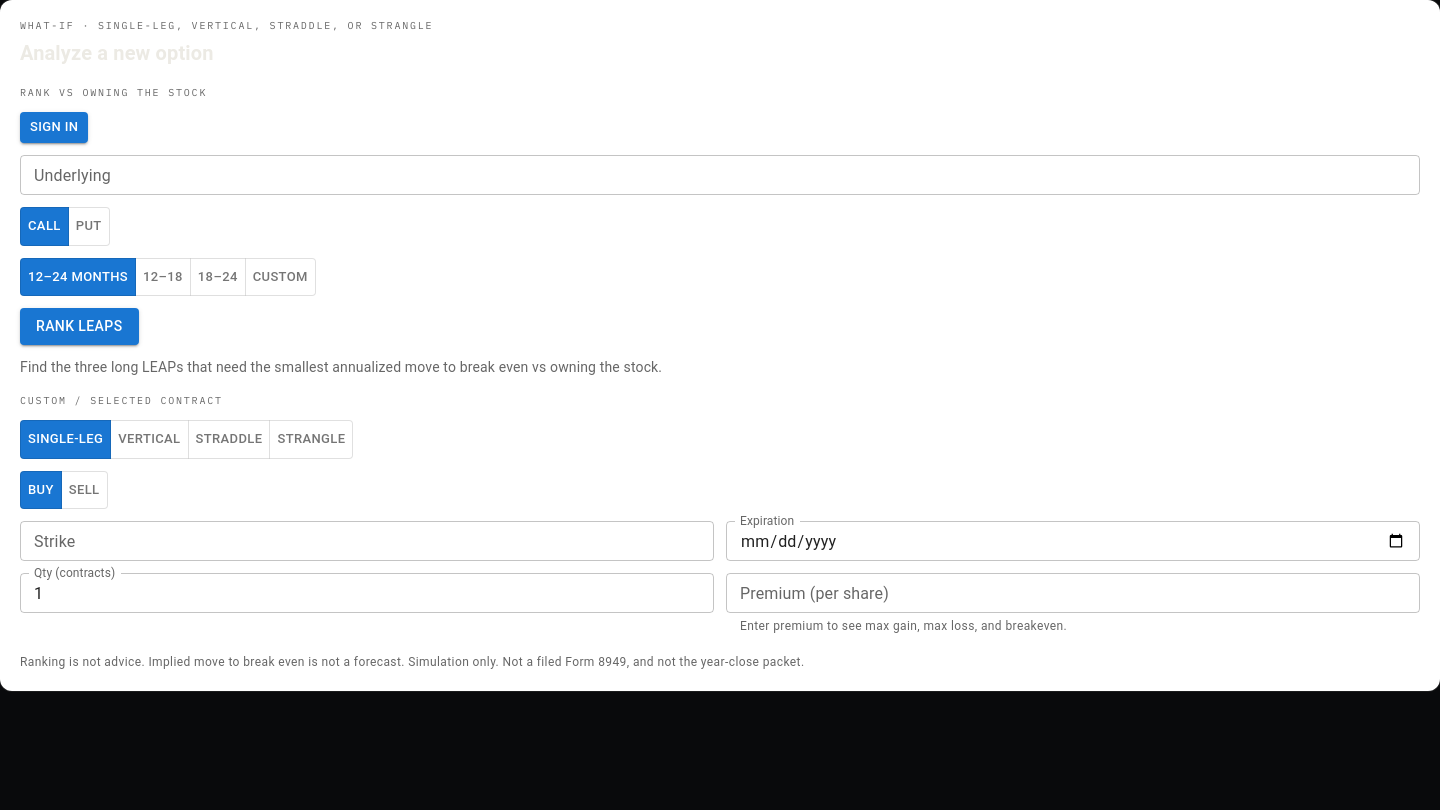
Test case: EntryAnalysisPanel › shows the 429 lookup message without fake ranks
Type "SPY" into the field with test id "entry-symbol" at (720, 175), box [20,155,1420,195]
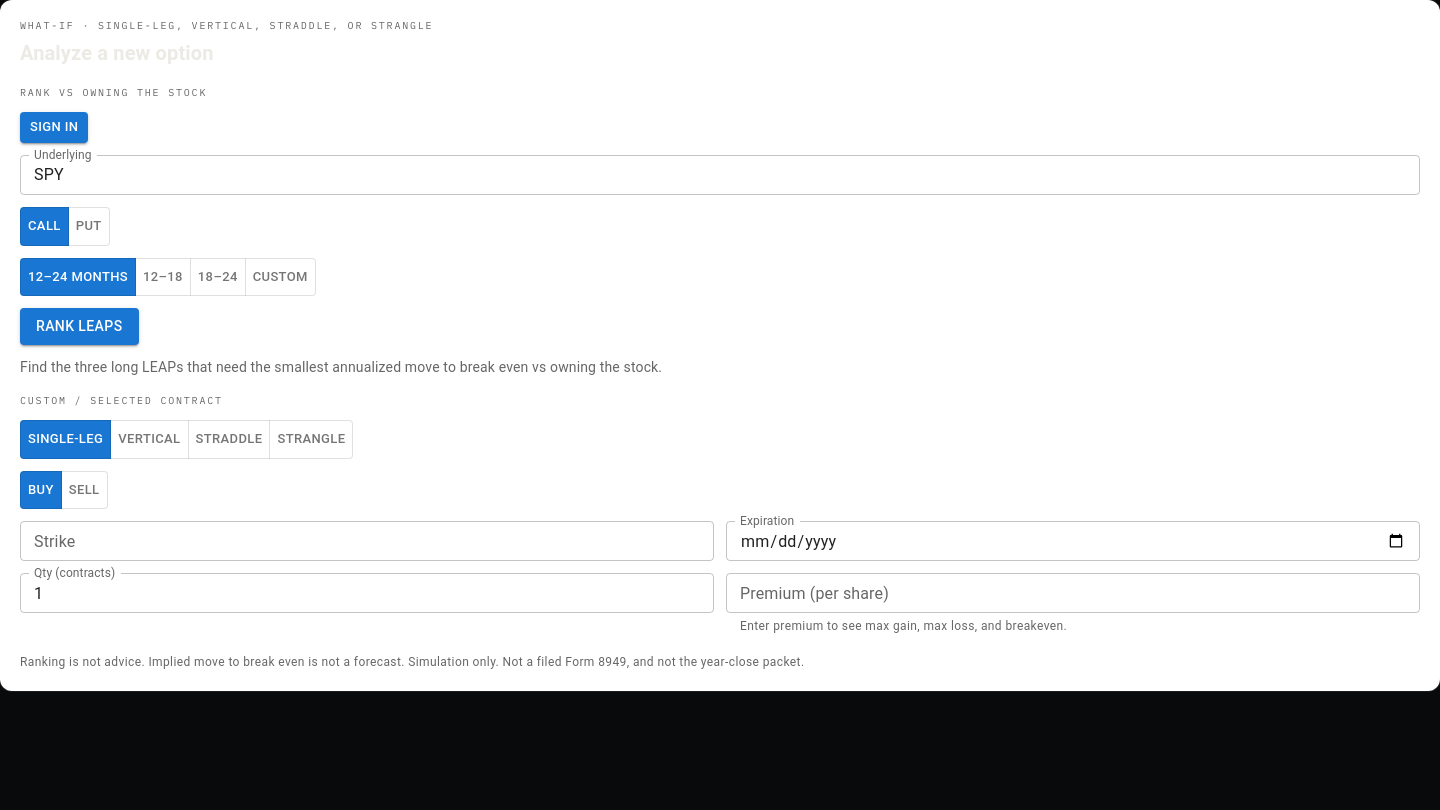
Click the button with test id "entry-rank-leaps" at (79, 327), box [20,308,138,345]
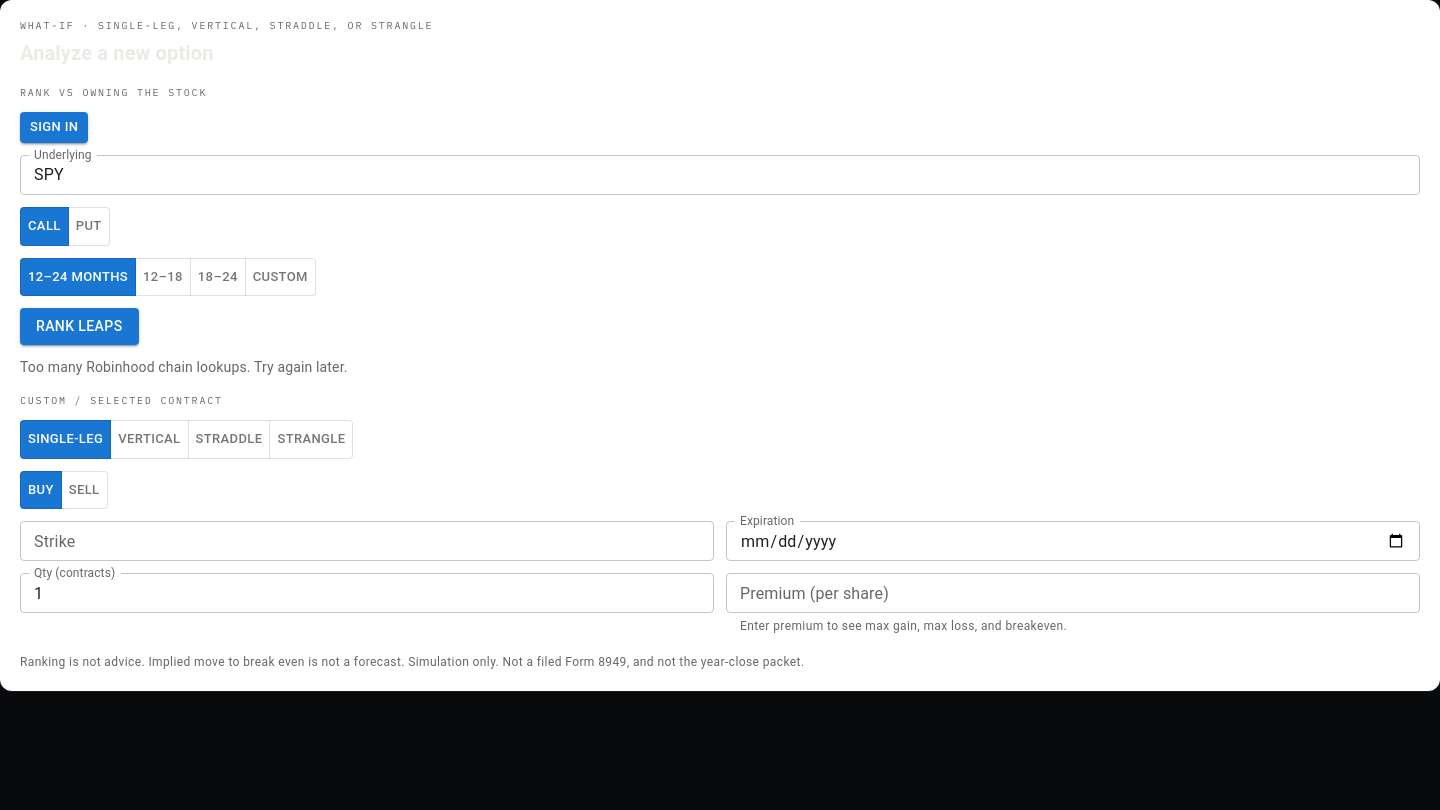
Expected: the text with test id "entry-rank-error" shows "Too many Robinhood chain lookups", [20,359,348,375]
